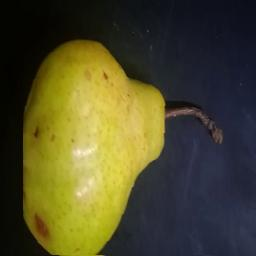Pear Semirotten: (23, 39, 223, 256)
